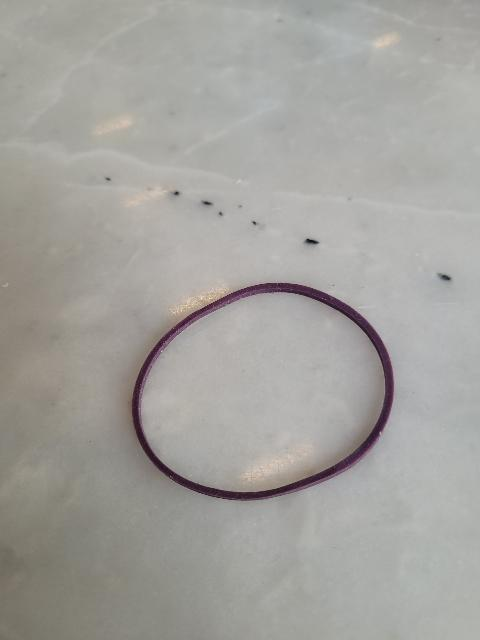Plastik: (126, 273, 400, 505)
